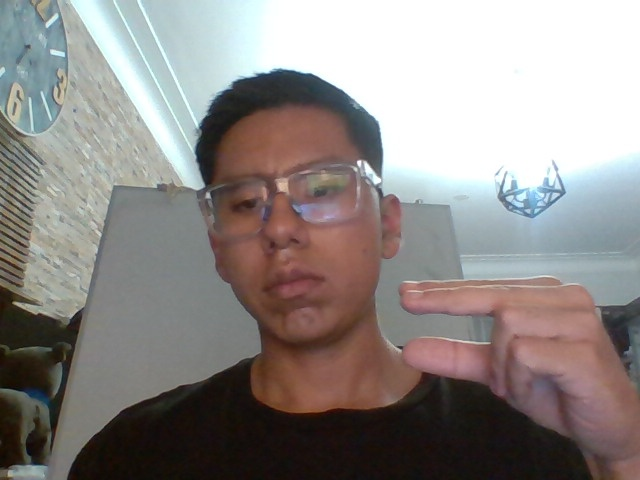No: (397, 276, 640, 458)
